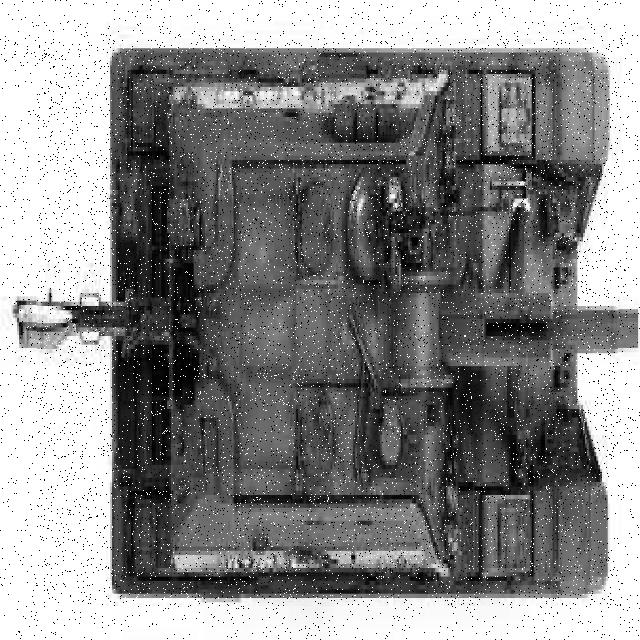MIL_MBT: (37, 40, 618, 605)
